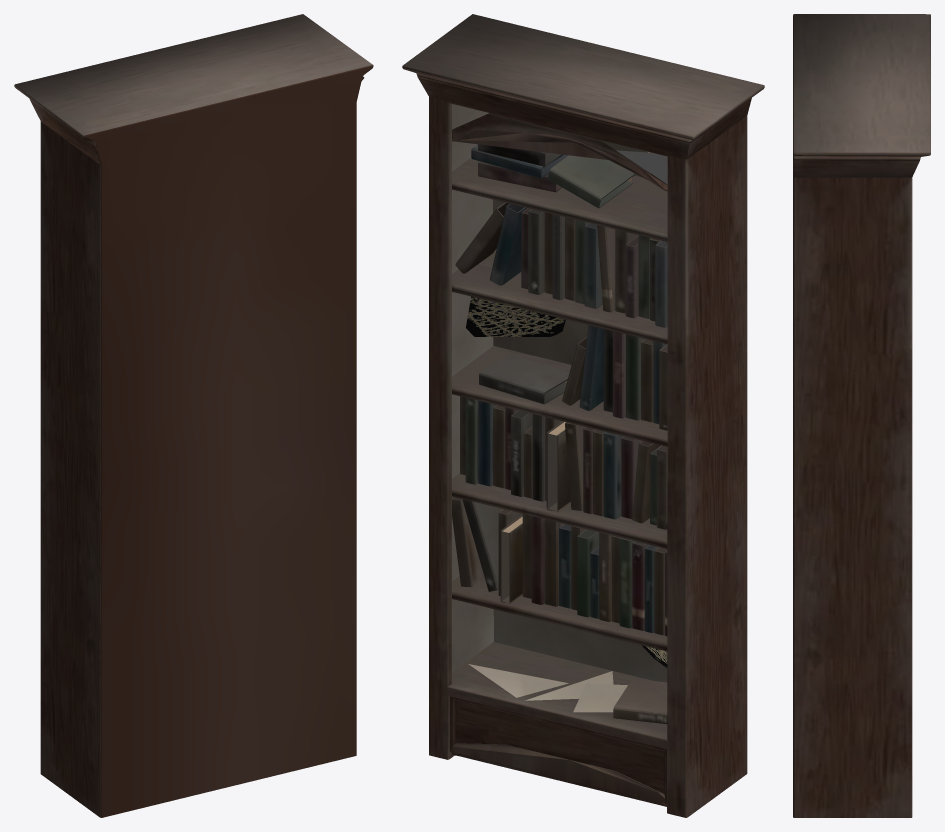
Rendered from Old_Dusty_Bookshelf.glb.
3 renders of one model, left to right at view 1: azimuth 30°, elevation 25°; view 2: azimuth 150°, elevation 25°; view 3: azimuth 270°, elevation 25°, orthographic. The views are drawn at different scales.
Visible parts, largest first — view 1: Old_Dusty_Bookshelf; view 2: Old_Dusty_Bookshelf, Old_Dusty_Bookshelf_Spiderwebs; view 3: Old_Dusty_Bookshelf.
Part boxes in pixels (x1,y1,x2,y2): Old_Dusty_Bookshelf: (14,14,373,817); Old_Dusty_Bookshelf: (402,14,764,817); Old_Dusty_Bookshelf_Spiderwebs: (466,151,667,667); Old_Dusty_Bookshelf: (793,14,930,817).
Size of the model in its own units: 0.9773 by 2.21 by 0.4092.
2 materials, 2 textured.
